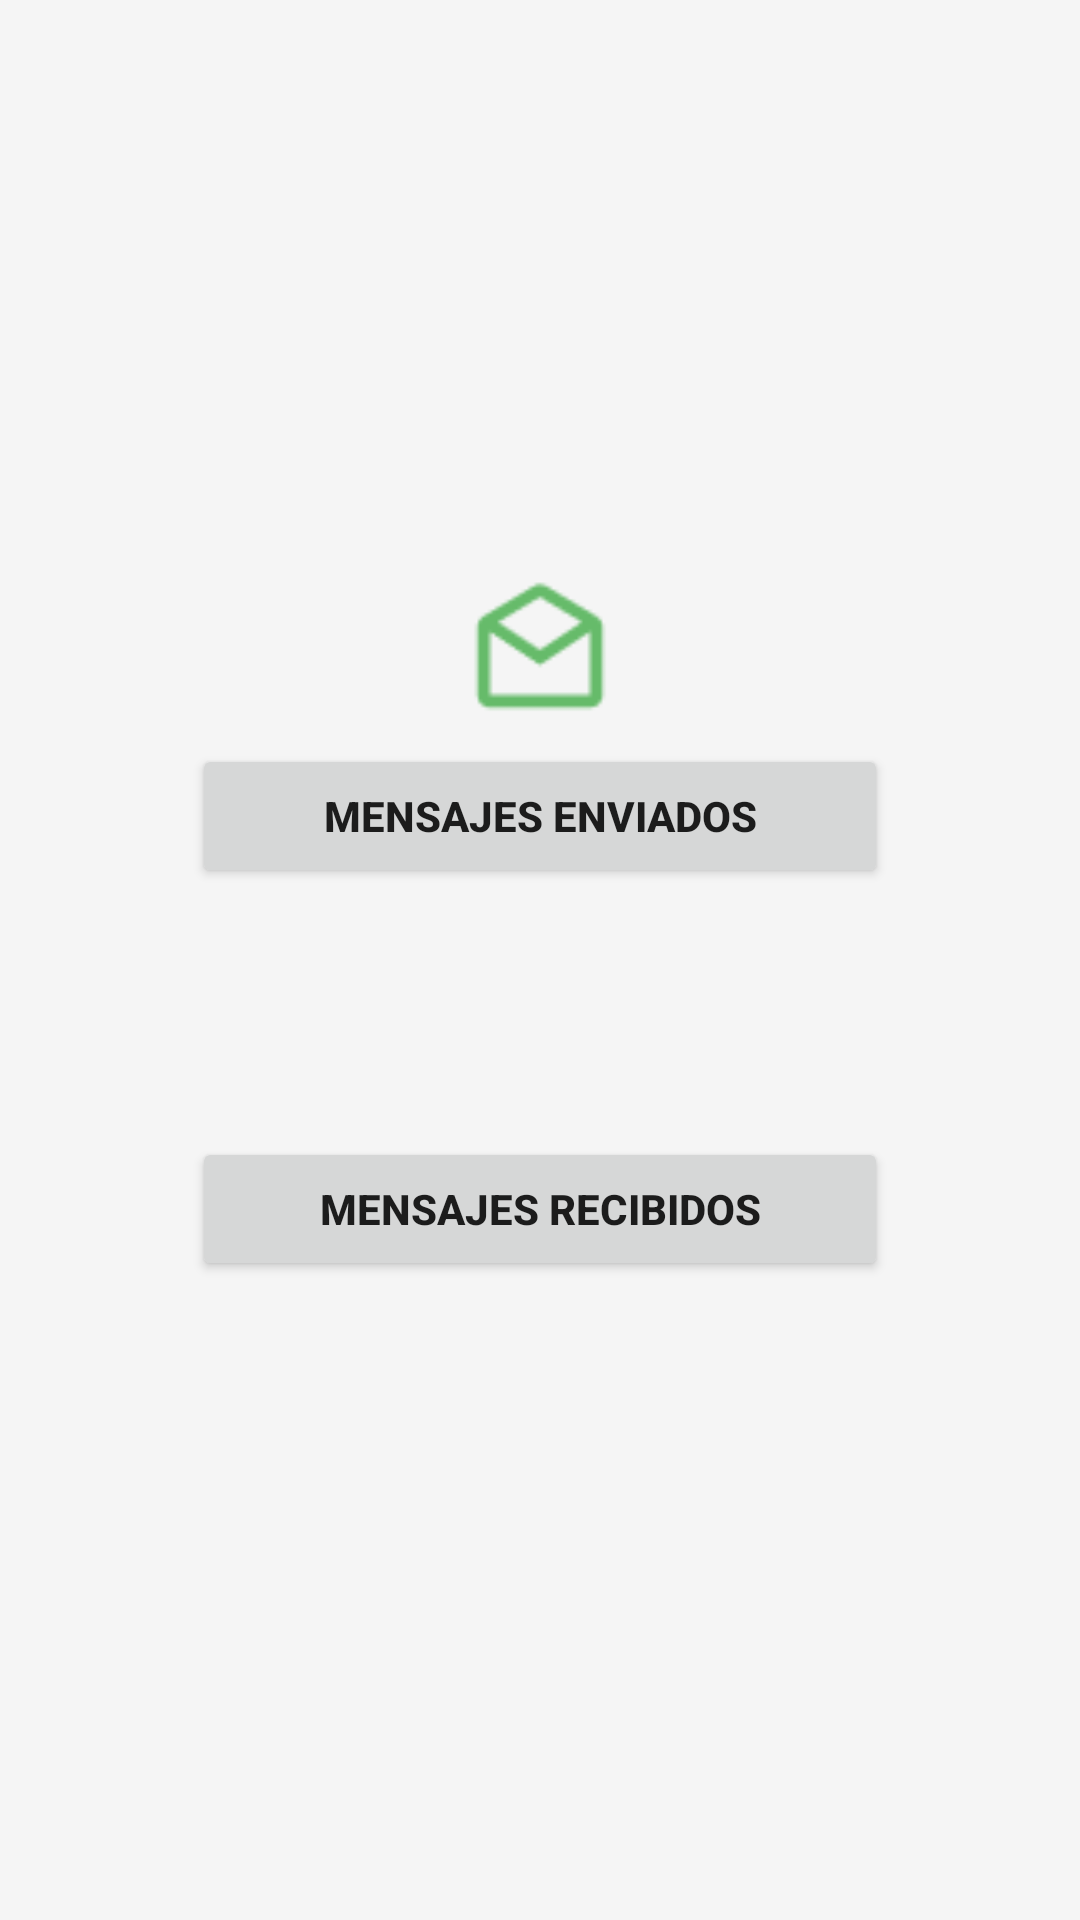

Icon bounding boxes for this 1080x1920 phone screenshot, format (x1, y1, x2, y2):
broadcast leido: (476, 583, 604, 709)
